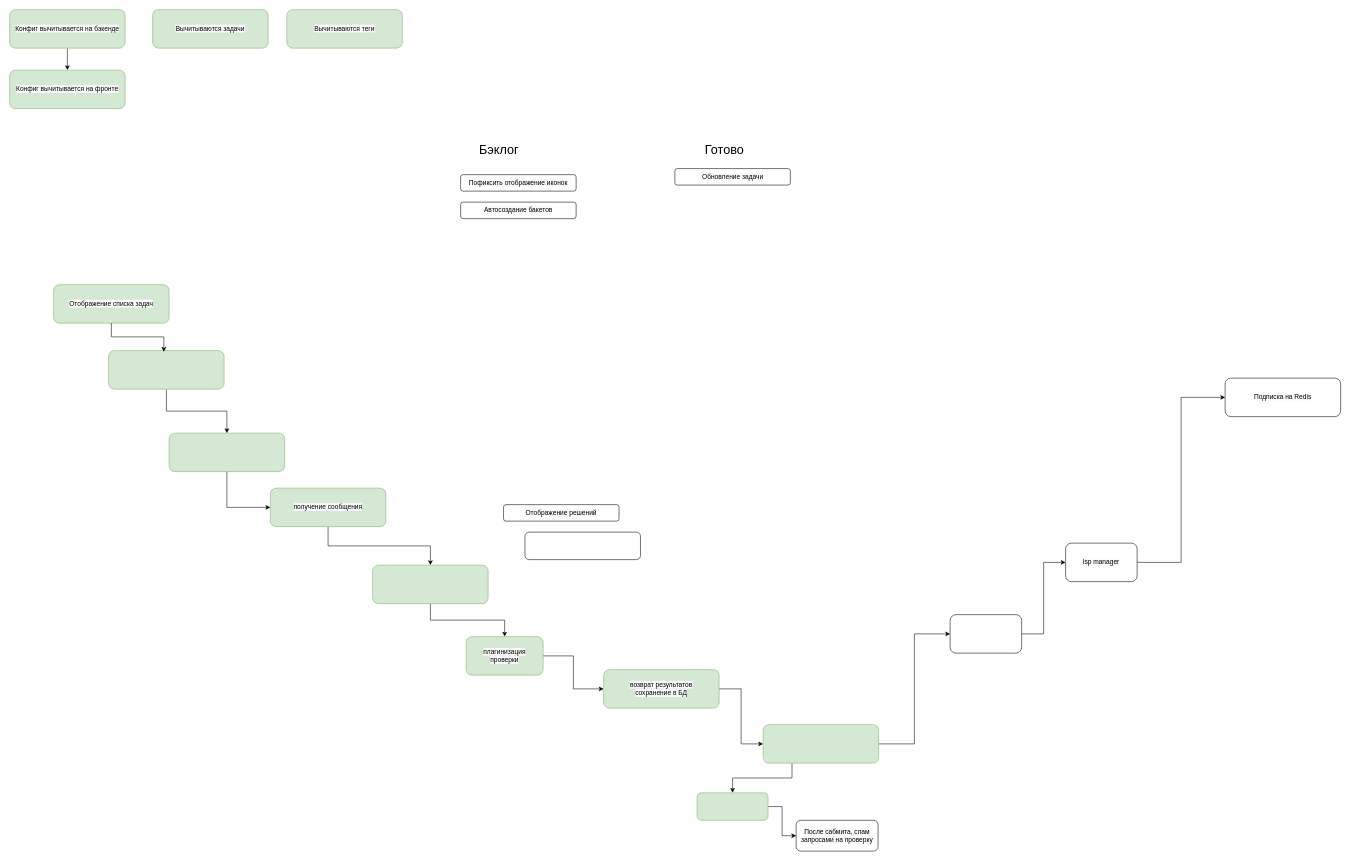
Image size: 1350x861. Some labels were removed from this diagram. Here are the shapes that lost their labels. From the top down, the centre of each, then its label:
point (166, 369): Отображение страницы задачи
point (227, 452): submit задач
point (582, 546): Ожидание без перезагрузки страницы?
point (430, 584): запуск контейнера и проверка
point (986, 633): keycloak
point (821, 743): Вычитка из БД
point (732, 806): Начальная
